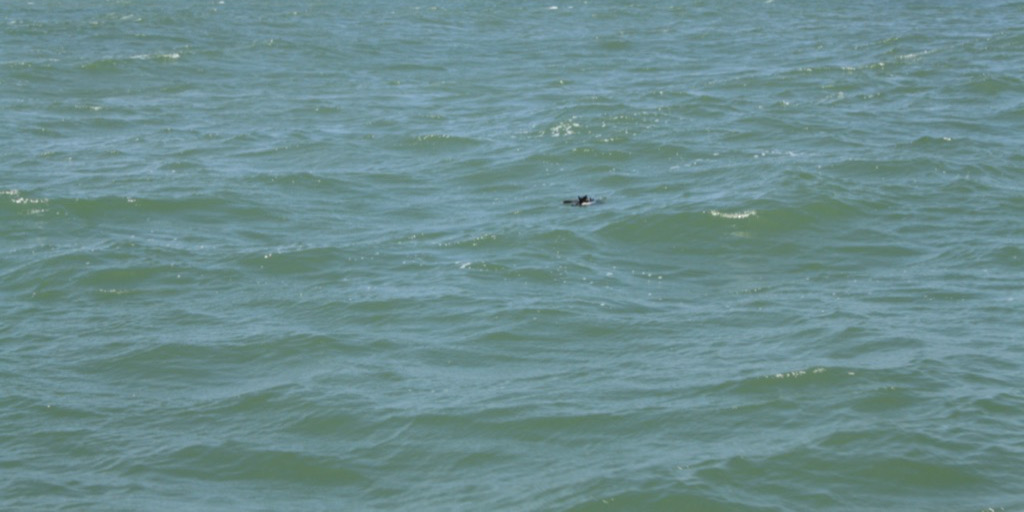plastic: (556, 192, 616, 213)
